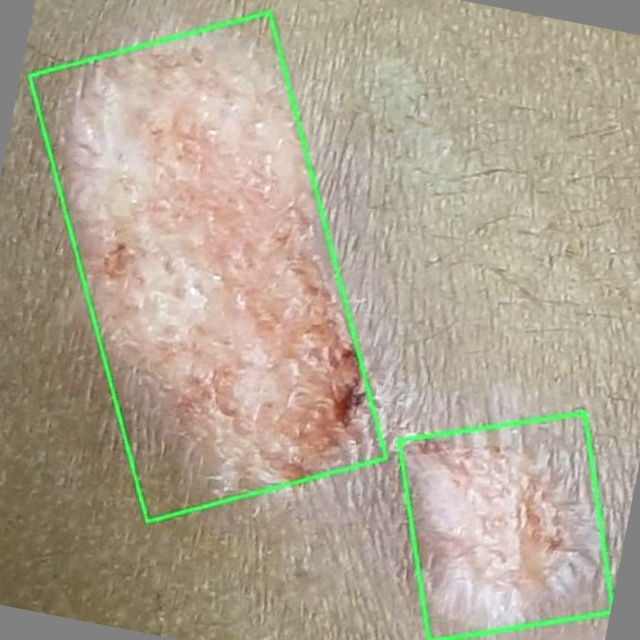Eczema: (29, 13, 385, 522), (396, 411, 612, 639)
